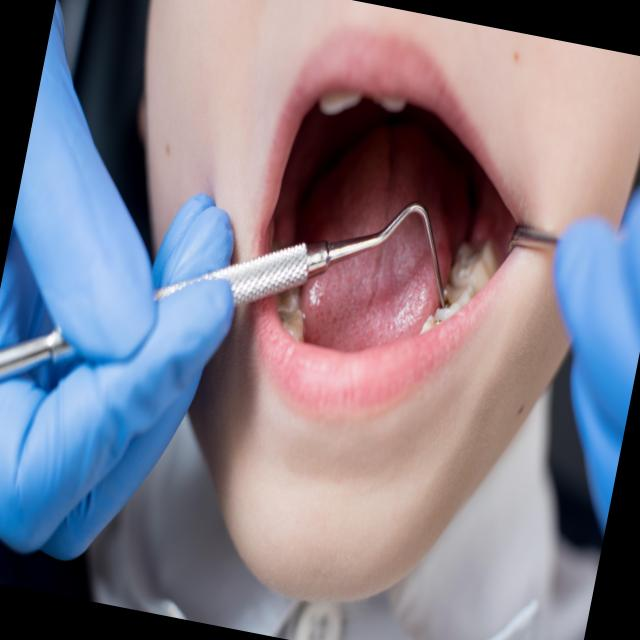Caries: (444, 299, 453, 308)
Tooth: (434, 283, 474, 320), (451, 259, 490, 295)
